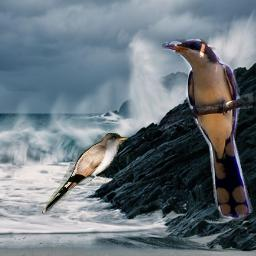Cuckoo: (162, 39, 253, 221), (42, 133, 129, 213)
